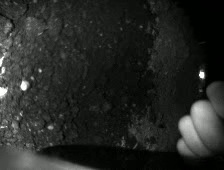corn: (17, 77, 32, 92)
